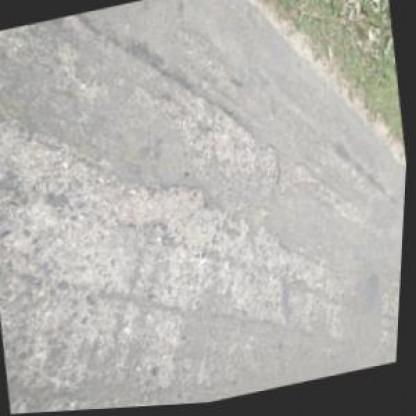pothole: (186, 85, 290, 208), (122, 170, 232, 270)
